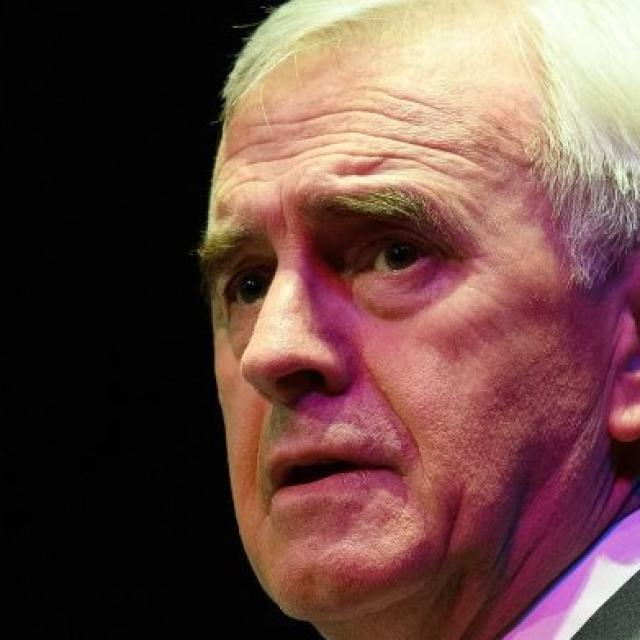Depress: (201, 3, 607, 617)
